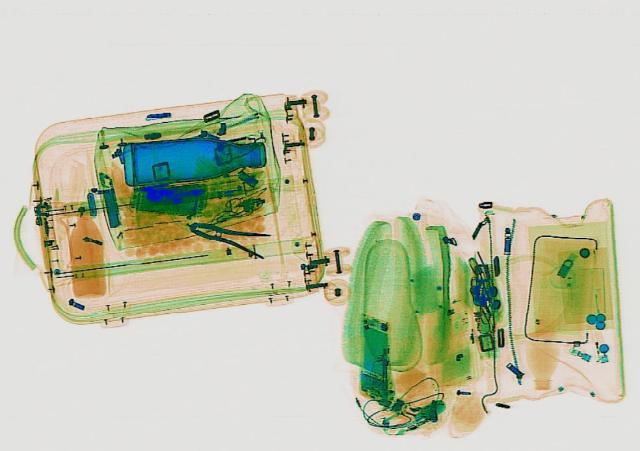Pliers: (181, 212, 279, 259)
